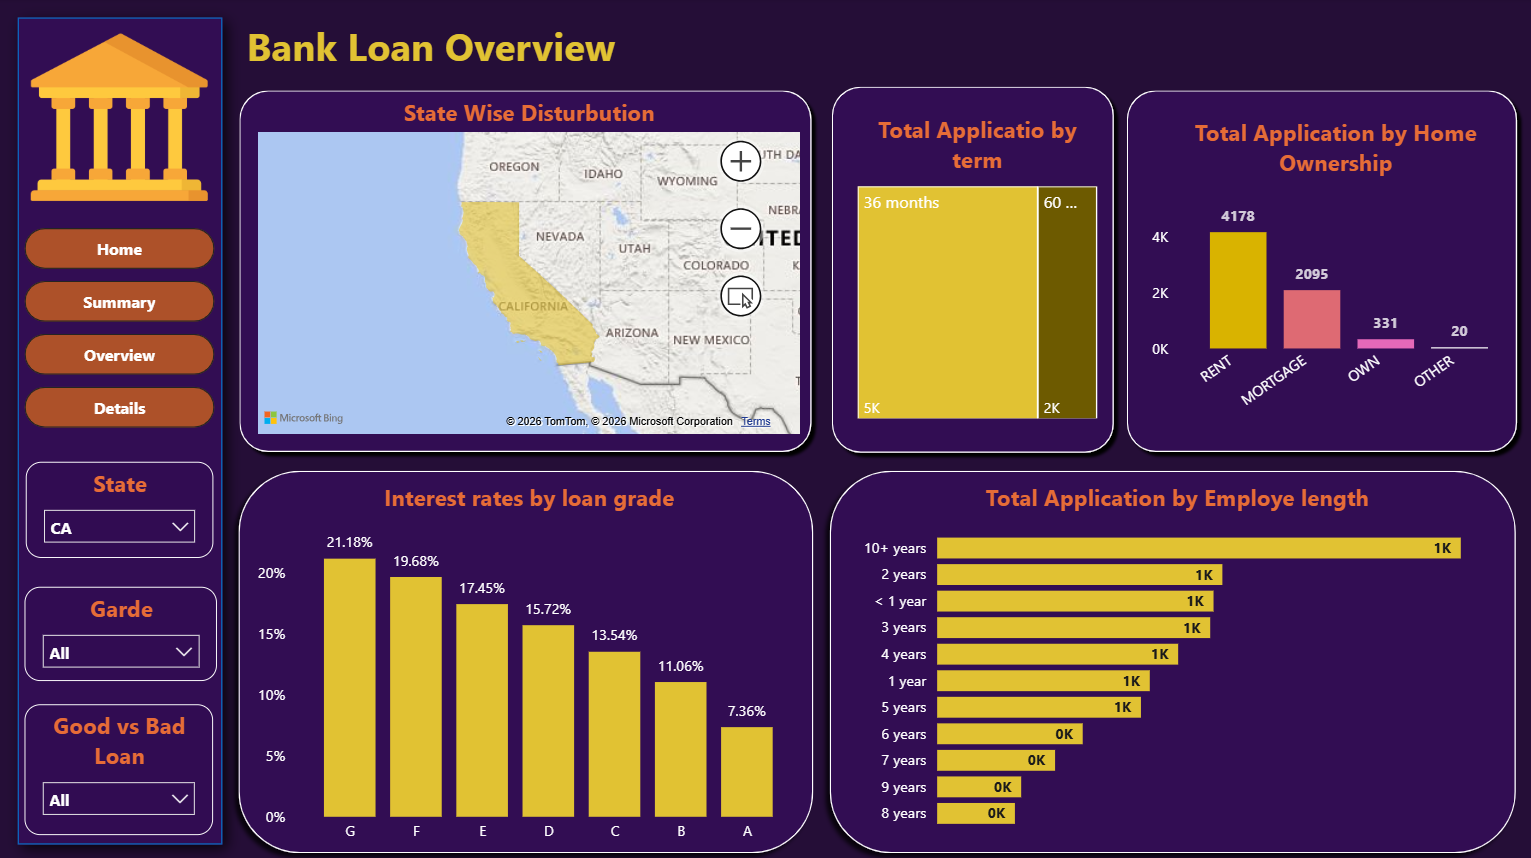

This screenshot's page, from the dashboard's own definition file:
{"tool":"powerbi","page":{"name":"Overview","canvas":[1280,720],"ordinal":2},"visuals":[{"type":"shape","box":[683.8,385,587.5,335],"z":0},{"type":"shape","box":[194.8,70,490,315],"z":1000},{"type":"shape","box":[1.2,0,202.5,720],"z":2000},{"type":"shape","box":[687.3,66.2,248.8,318.8],"z":3000},{"type":"textbox","box":[202.7,13.5,508.2,53],"z":4000},{"type":"clusteredBarChart","title":"Total Application by Employe length","fields":{"Category":["financial_loan.emp_length"],"Y":["DAX Queries.Total Application"]},"box":[711.2,402.5,541.2,298.8],"z":5000},{"type":"image","box":[28.1,23.9,147.6,150.7],"z":6000},{"type":"shape","box":[192.5,385,495,335],"z":7000},{"type":"treemap","title":"Total Applicatio by term","fields":{"Group":["financial_loan.term"],"Values":["DAX Queries.Total Application"]},"box":[711,97,208.8,258],"z":8000},{"type":"filledMap","title":"State Wise Disturbution","fields":{"Category":["financial_loan.Address State"],"Series":["financial_loan.Country"]},"box":[212.5,82.5,461.2,286.2],"z":9000},{"type":"shape","box":[932.2,70,338.8,315],"z":10000},{"type":"lineClusteredColumnComboChart","title":"Total Application by Home Ownership","fields":{"Category":["financial_loan.home_ownership"],"Y":["DAX Queries.Total Application"]},"box":[954.7,98.8,316.2,261.2],"z":11000},{"type":"columnChart","title":"Interest rates by loan grade","fields":{"Category":["financial_loan.grade"],"Y":["Avg(financial_loan.int_rate)"]},"box":[212.5,402.5,461.2,308.8],"z":12000},{"type":"slicer","title":"State","fields":{"Values":["financial_loan.address_state"]},"box":[24.3,385.7,155.7,80],"z":13000},{"type":"slicer","title":"Garde","fields":{"Values":["financial_loan.grade"]},"box":[22.9,490,160,78.6],"z":14000},{"type":"slicer","title":"Good vs Bad Loan","fields":{"Values":["financial_loan.Good Loan vs Bad Loan"]},"box":[22.8,587.6,156.7,108.9],"z":15000},{"type":"pageNavigator","box":[22.9,191.4,158.6,168.6],"z":16000}]}

Visuals, with their boxes in screenshot pixels (x1, y1, x2, y2), scaled from the page's 1280x720 canvas onto the 1531x858 screenshot:
shape: detection(818, 459, 1521, 857)
shape: detection(233, 83, 819, 459)
shape: detection(1, 0, 244, 857)
shape: detection(822, 79, 1120, 459)
textbox: detection(242, 16, 850, 79)
"Total Application by Employe length" clusteredBarChart: detection(851, 480, 1498, 836)
image: detection(34, 28, 210, 208)
shape: detection(230, 459, 822, 857)
"Total Applicatio by term" treemap: detection(850, 116, 1100, 423)
"State Wise Disturbution" filledMap: detection(254, 98, 806, 439)
shape: detection(1115, 83, 1520, 459)
"Total Application by Home Ownership" lineClusteredColumnComboChart: detection(1142, 118, 1520, 429)
"Interest rates by loan grade" columnChart: detection(254, 480, 806, 848)
"State" slicer: detection(29, 460, 215, 555)
"Garde" slicer: detection(27, 584, 219, 678)
"Good vs Bad Loan" slicer: detection(27, 700, 215, 830)
pageNavigator: detection(27, 228, 217, 429)
